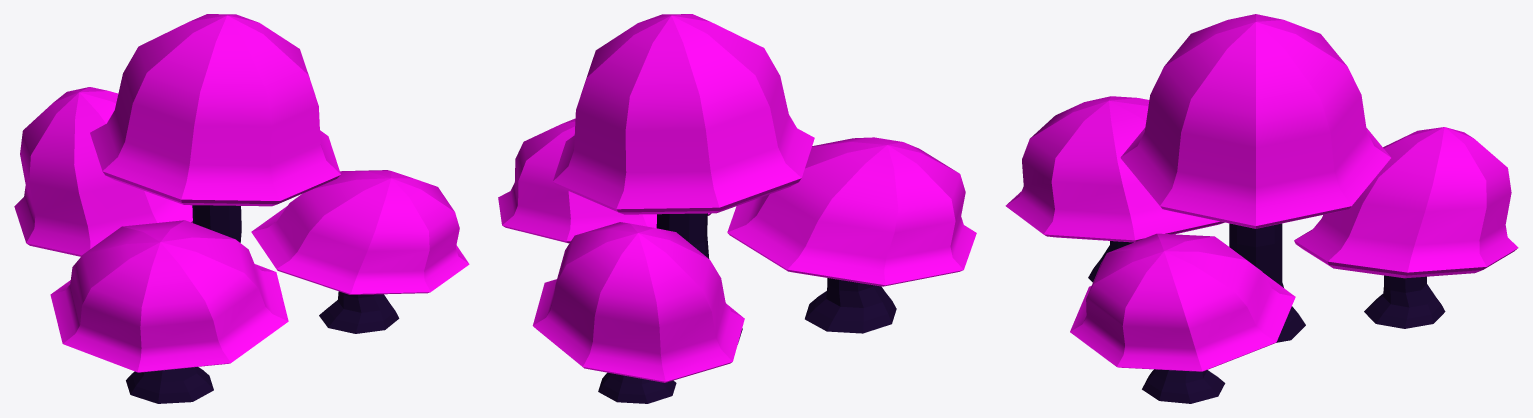
Rendered from MushroomCluster_1.fbx.
The picture shows the model from 3 angles, left to right: view 1: azimuth 30°, elevation 25°; view 2: azimuth 150°, elevation 25°; view 3: azimuth 270°, elevation 25°; orthographic projection. The views are drawn at different scales.
Visible parts, largest first — view 1: MushroomCluster_1; view 2: MushroomCluster_1; view 3: MushroomCluster_1.
Boxes of the visible parts, left/top/right/bottom form: MushroomCluster_1: left=14, top=14, right=469, bottom=403; MushroomCluster_1: left=498, top=14, right=976, bottom=403; MushroomCluster_1: left=1005, top=14, right=1518, bottom=403.
Bounding box in the file's own units: 60.97 × 42.22 × 62.44.
